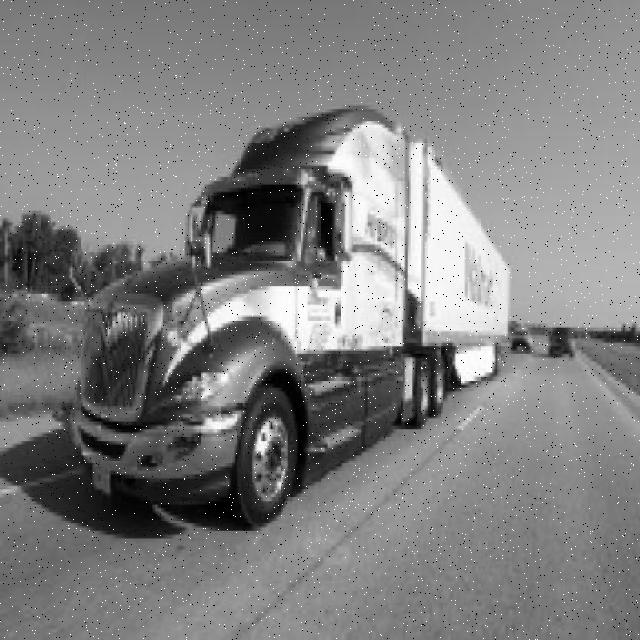Box Truck: (51, 106, 511, 531)
